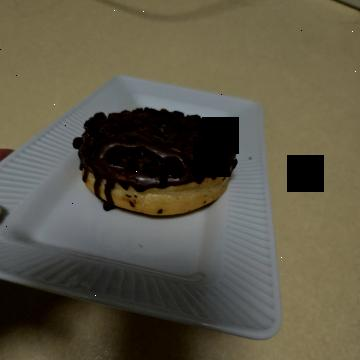doughnut: (80, 105, 238, 304)
